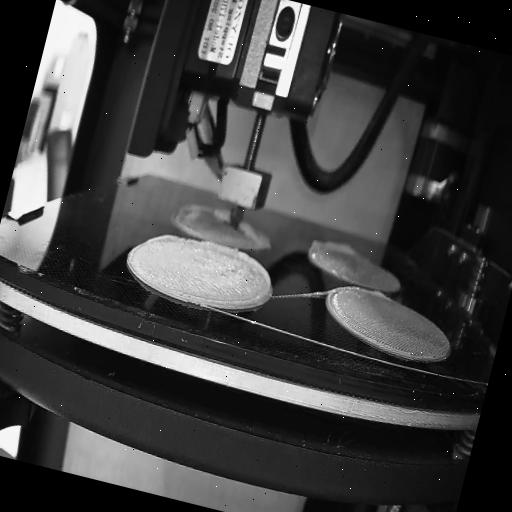over_extrusion: (184, 238, 278, 318), (315, 235, 359, 265), (146, 226, 188, 254), (204, 206, 232, 226), (236, 222, 261, 243), (370, 286, 388, 300)
